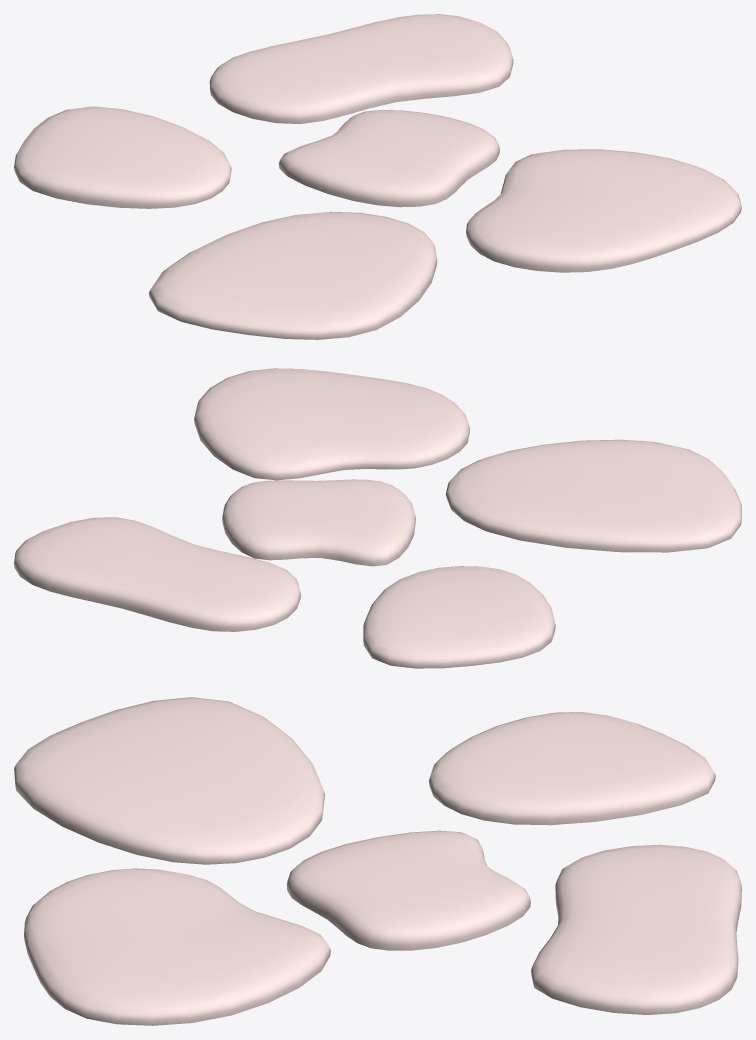
Rendered from Store_5_Path_2.glb.
3 views of the same model, one above another, from view 1: azimuth 30°, elevation 25°; view 2: azimuth 150°, elevation 25°; view 3: azimuth 270°, elevation 25° (orthographic). The views are drawn at different scales.
Parts seen in each view (by area): view 1: Store_5_Path_2; view 2: Store_5_Path_2; view 3: Store_5_Path_2.
Boxes of the visible parts, left/top/right/bottom form: Store_5_Path_2: left=14, top=14, right=741, bottom=339; Store_5_Path_2: left=14, top=368, right=741, bottom=668; Store_5_Path_2: left=14, top=697, right=741, bottom=1025.
Size of the model in its own units: 2.35 by 0.0749 by 2.26.
Materials: 1 (1 with a texture image).
